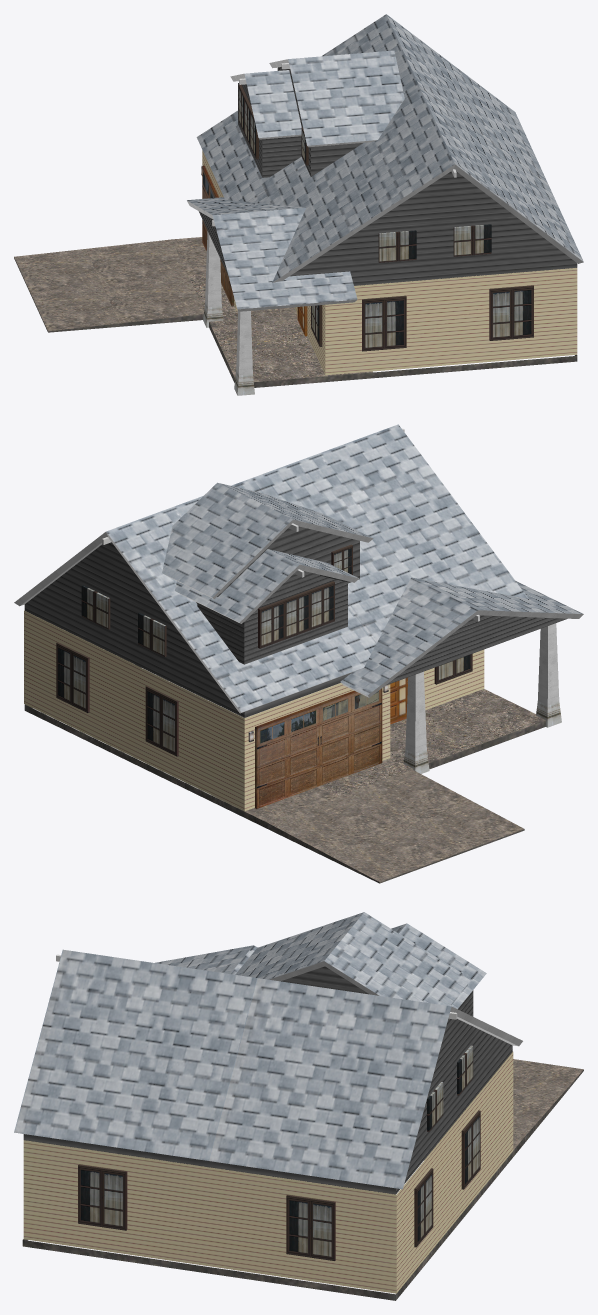
Rendered from house_07__9_.FBX.
The picture shows the model from 3 angles, top to bottom: view 1: azimuth 30°, elevation 25°; view 2: azimuth 150°, elevation 25°; view 3: azimuth 270°, elevation 25°; orthographic projection. The views are drawn at different scales.
Parts seen in each view (by area): view 1: house_07__9_; view 2: house_07__9_; view 3: house_07__9_.
Boxes of the visible parts, bbox=[...] form: house_07__9_: bbox=[14, 14, 583, 395]; house_07__9_: bbox=[14, 424, 583, 883]; house_07__9_: bbox=[14, 912, 583, 1300].
Bounding box in the file's own units: 221 × 101 × 203.
